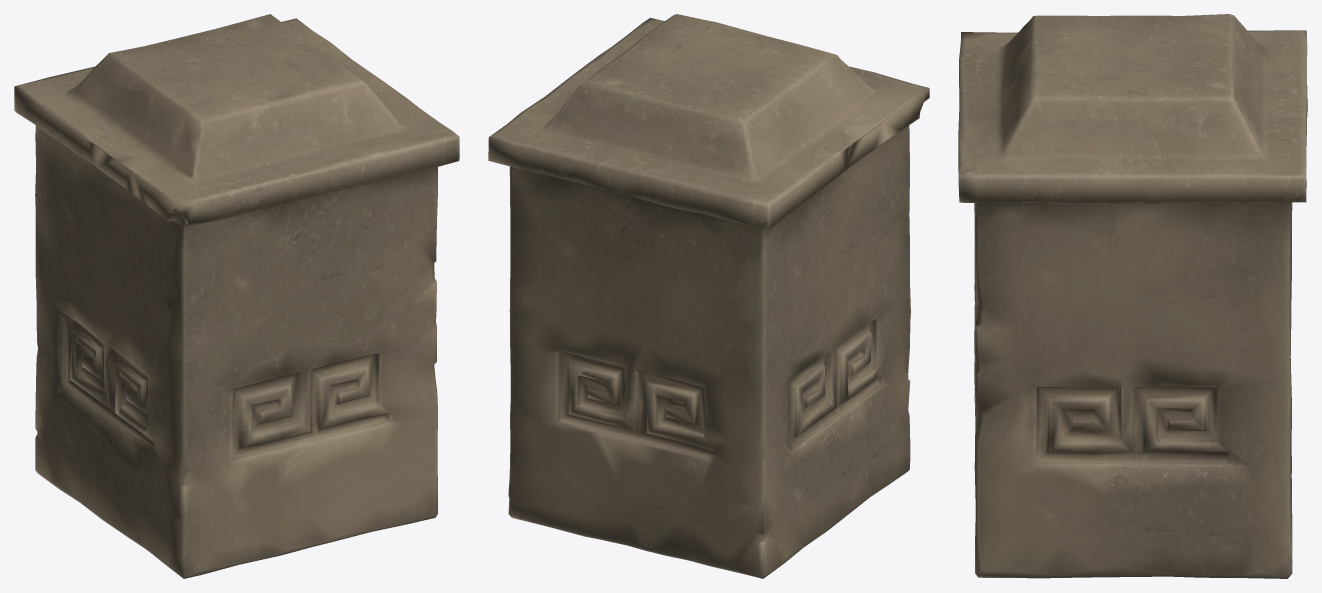
The model's file is serpent-wall-corner-cantera.glb.
3 renders of one model, left to right at view 1: azimuth 30°, elevation 25°; view 2: azimuth 150°, elevation 25°; view 3: azimuth 270°, elevation 25°, orthographic. The views are drawn at different scales.
Parts seen in each view (by area): view 1: serpent_wall_corner; view 2: serpent_wall_corner; view 3: serpent_wall_corner.
Boxes of the visible parts, left/top/right/bottom form: serpent_wall_corner: left=14, top=14, right=459, bottom=578; serpent_wall_corner: left=488, top=14, right=929, bottom=578; serpent_wall_corner: left=958, top=14, right=1307, bottom=578.
Size of the model in its own units: 0.3315 by 0.4846 by 0.3331.
1 material, 1 textured.
